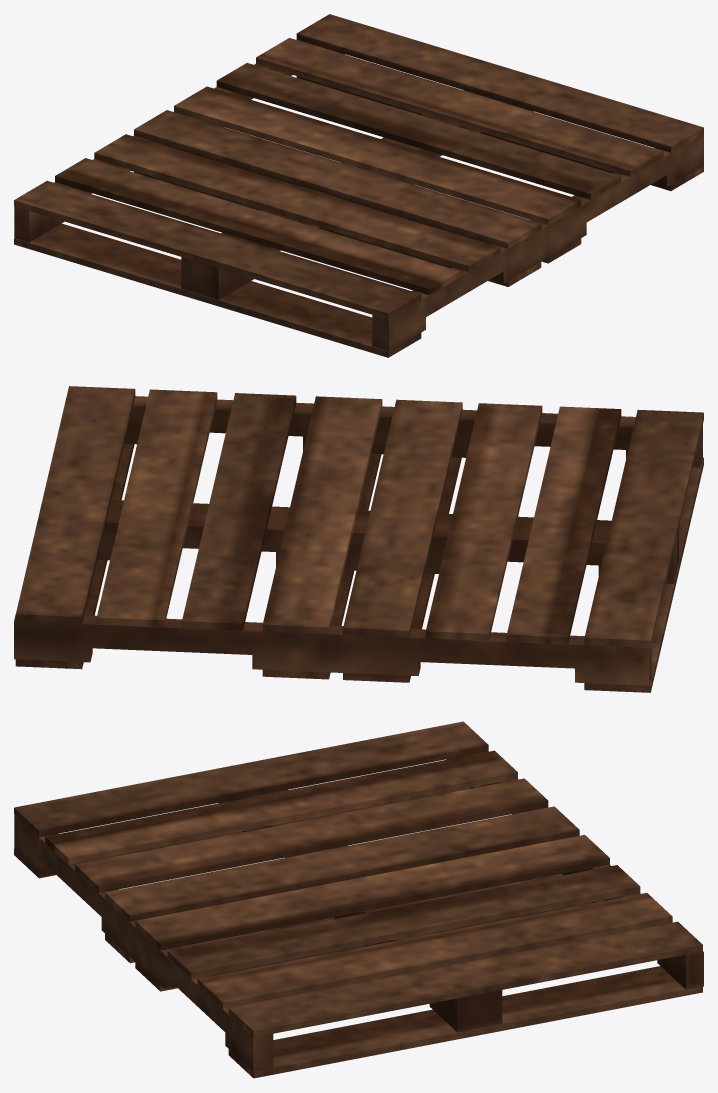
The model's file is tj_pallet_a.fbx.
The picture shows the model from 3 angles, top to bottom: view 1: azimuth 30°, elevation 25°; view 2: azimuth 150°, elevation 25°; view 3: azimuth 270°, elevation 25°; orthographic projection. The views are drawn at different scales.
Visible parts, largest first — view 1: tj_pallet_a_LOD0; view 2: tj_pallet_a_LOD0; view 3: tj_pallet_a_LOD0.
Part boxes in pixels (left/top/right/bottom): tj_pallet_a_LOD0: left=14, top=14, right=703, bottom=357; tj_pallet_a_LOD0: left=14, top=386, right=703, bottom=692; tj_pallet_a_LOD0: left=14, top=721, right=703, bottom=1078.
Size of what is drawn, in the model's own units: 1.9 by 0.1359 by 1.79.
